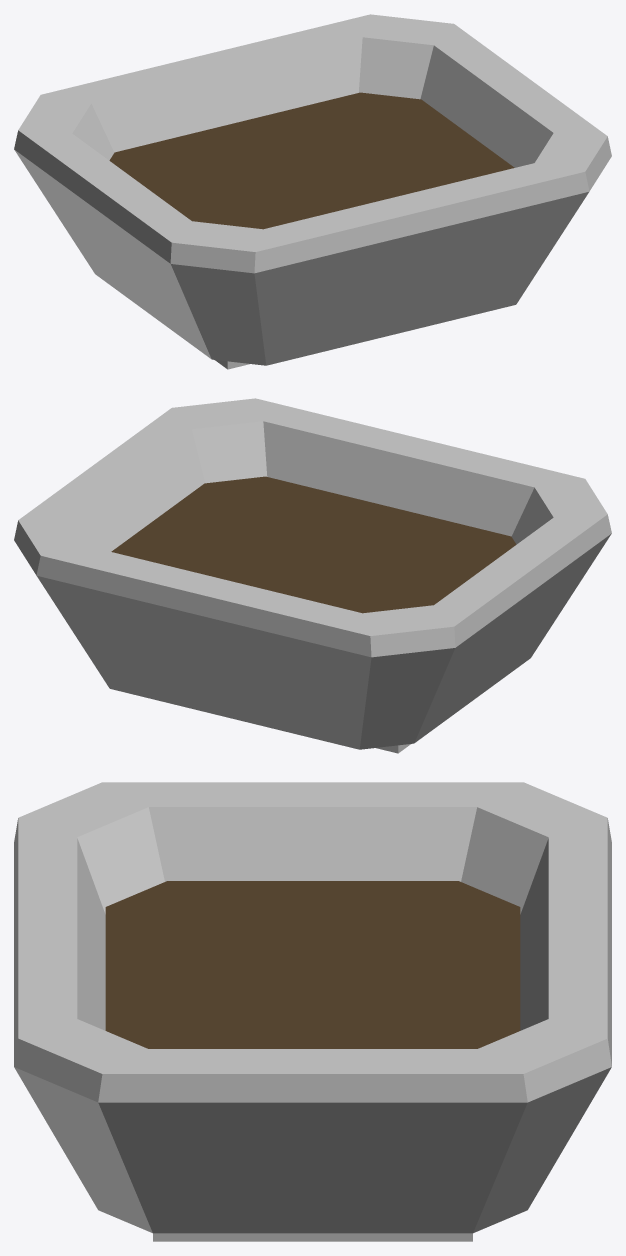
Rendered from bonsai_pot.obj.
3 renders of one model, top to bottom at view 1: azimuth 30°, elevation 25°; view 2: azimuth 150°, elevation 25°; view 3: azimuth 270°, elevation 25°, orthographic. The views are drawn at different scales.
Visible parts, largest first — view 1: bonsai_pot; view 2: bonsai_pot; view 3: bonsai_pot.
Part boxes in pixels (x1,y1,x2,y2): bonsai_pot: (14, 14, 611, 369); bonsai_pot: (14, 398, 611, 753); bonsai_pot: (14, 782, 611, 1241).
Bounding box in the file's own units: 0.83 × 0.285 × 0.71.
